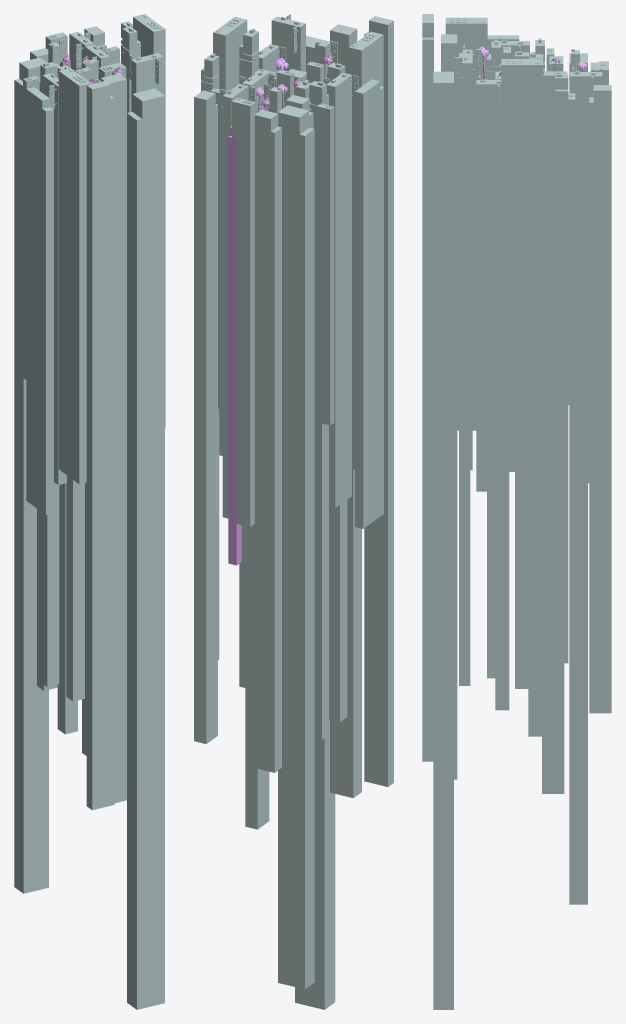
File: BG5_miami.fbx
3 views of the same model, side by side, from view 1: azimuth 30°, elevation 25°; view 2: azimuth 150°, elevation 25°; view 3: azimuth 270°, elevation 25° (orthographic). The views are drawn at different scales.
Visible parts, largest first — view 1: BGBuilding04 (×6), BGBuilding02 (×5), BGBuilding09 (×3), BGBuilding05 (×3), BGBuilding05_1; view 2: BGBuilding04 (×6), BGBuilding02 (×8), BGBuilding09 (×6), BGBuilding05 (×3), BGBuilding01; view 3: BGBuilding04 (×6), BGBuilding02 (×6), BGBuilding09 (×4), BGBuilding05 (×2), BGBuilding05_1, BGBuilding01.
Part boxes in pixels (x1,y1,x2,y2): BGBuilding04 (×6): (14, 57, 164, 1009); BGBuilding02 (×5): (26, 32, 163, 514); BGBuilding09 (×3): (23, 14, 165, 484); BGBuilding05 (×3): (40, 26, 140, 701); BGBuilding05_1: (57, 65, 77, 734); BGBuilding04 (×6): (245, 16, 393, 1009); BGBuilding02 (×8): (194, 14, 383, 744); BGBuilding09 (×6): (201, 16, 383, 660); BGBuilding05 (×3): (239, 28, 347, 740); BGBuilding01: (228, 126, 241, 565); BGBuilding04 (×6): (422, 14, 587, 1009); BGBuilding02 (×6): (454, 44, 611, 713); BGBuilding09 (×4): (445, 17, 575, 663); BGBuilding05 (×2): (487, 40, 528, 688); BGBuilding05_1: (528, 53, 543, 736); BGBuilding01: (571, 49, 579, 533).
Bounding box in the file's own units: 17452 × 120571 × 21474.
